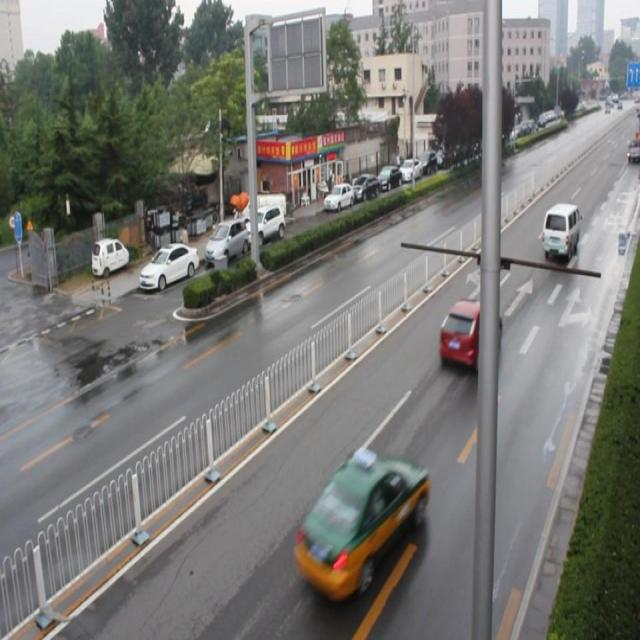car: (291, 448, 428, 590), (437, 296, 502, 369)
truck: (542, 201, 580, 261)
